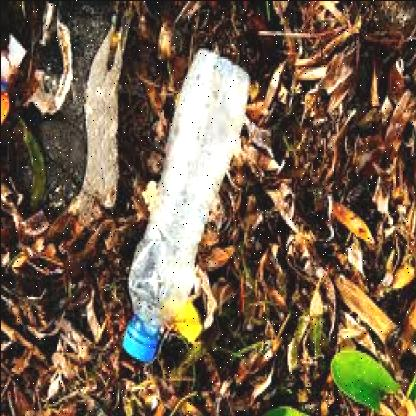Plastic Bottle: (121, 49, 247, 362)
